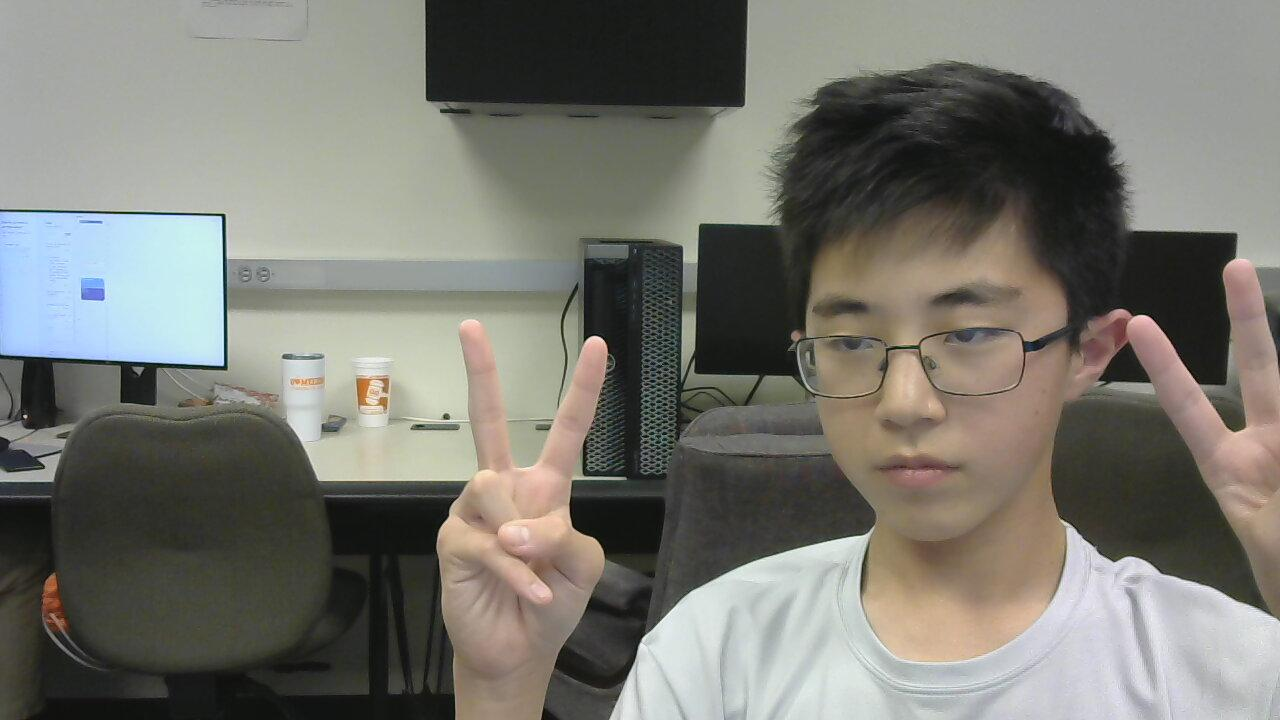peace: (426, 302, 624, 664), (1100, 261, 1280, 604)
